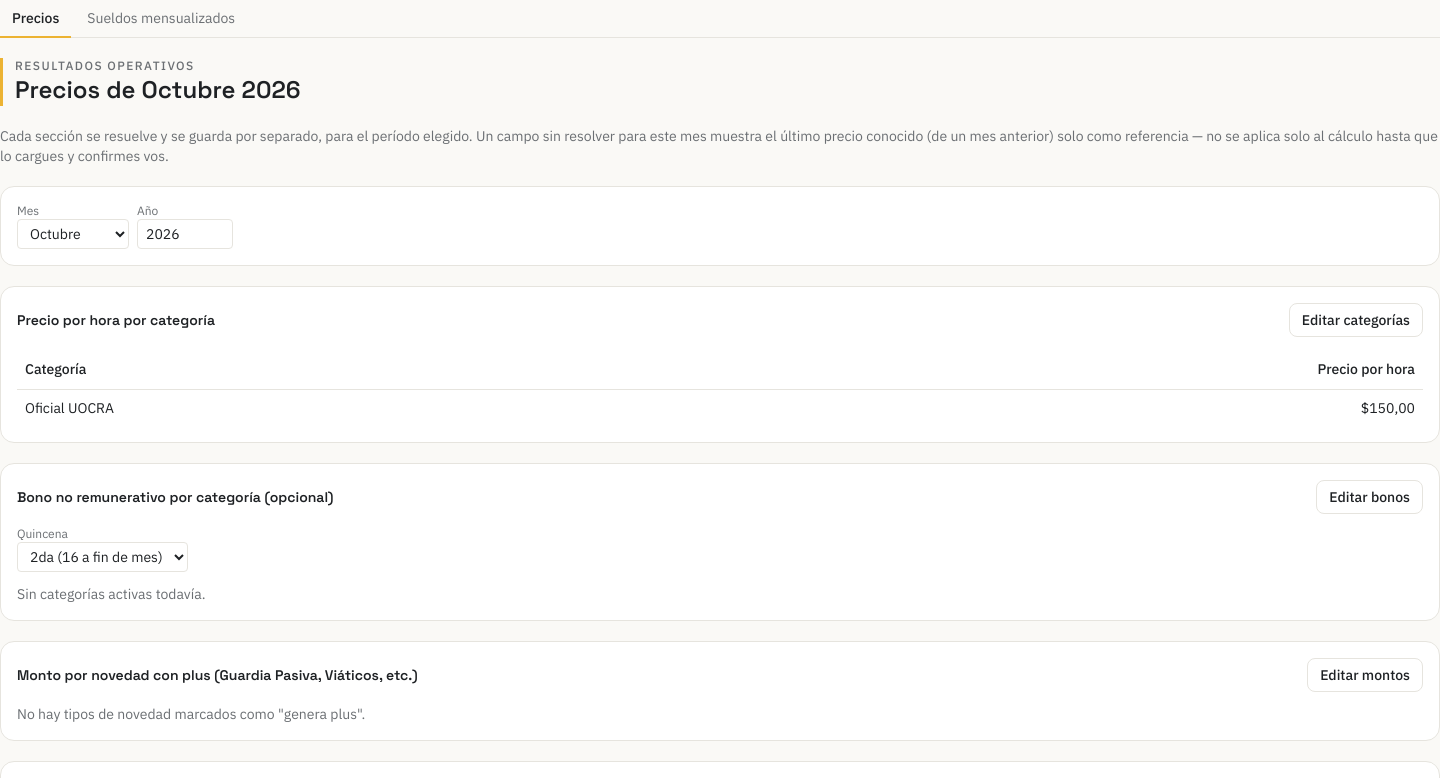
Test case: TarifasPage — Precios (ADR-018, secciones independientes) › cancelar edición vuelve a lectura descartando los cambios, sin guardar
Expected: the text "$150,00" is shown, [693,389,1423,426]
Click the button "Editar categorías". click: (1356, 320)
box: [1289,303,1423,337]
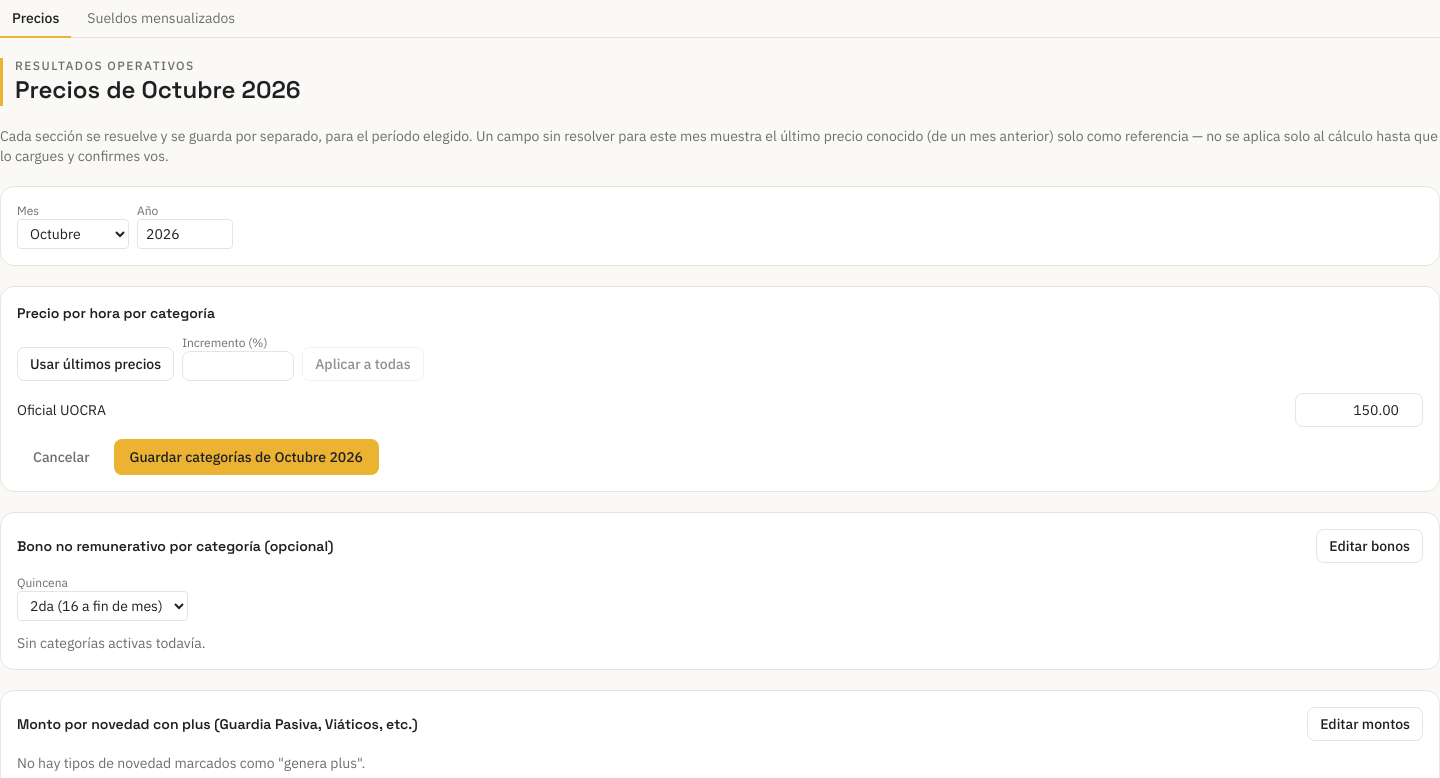
Replace the text in the number field labelled "Oficial UOCRA" with "999". click: (1359, 410)
box: [1295,393,1423,427]
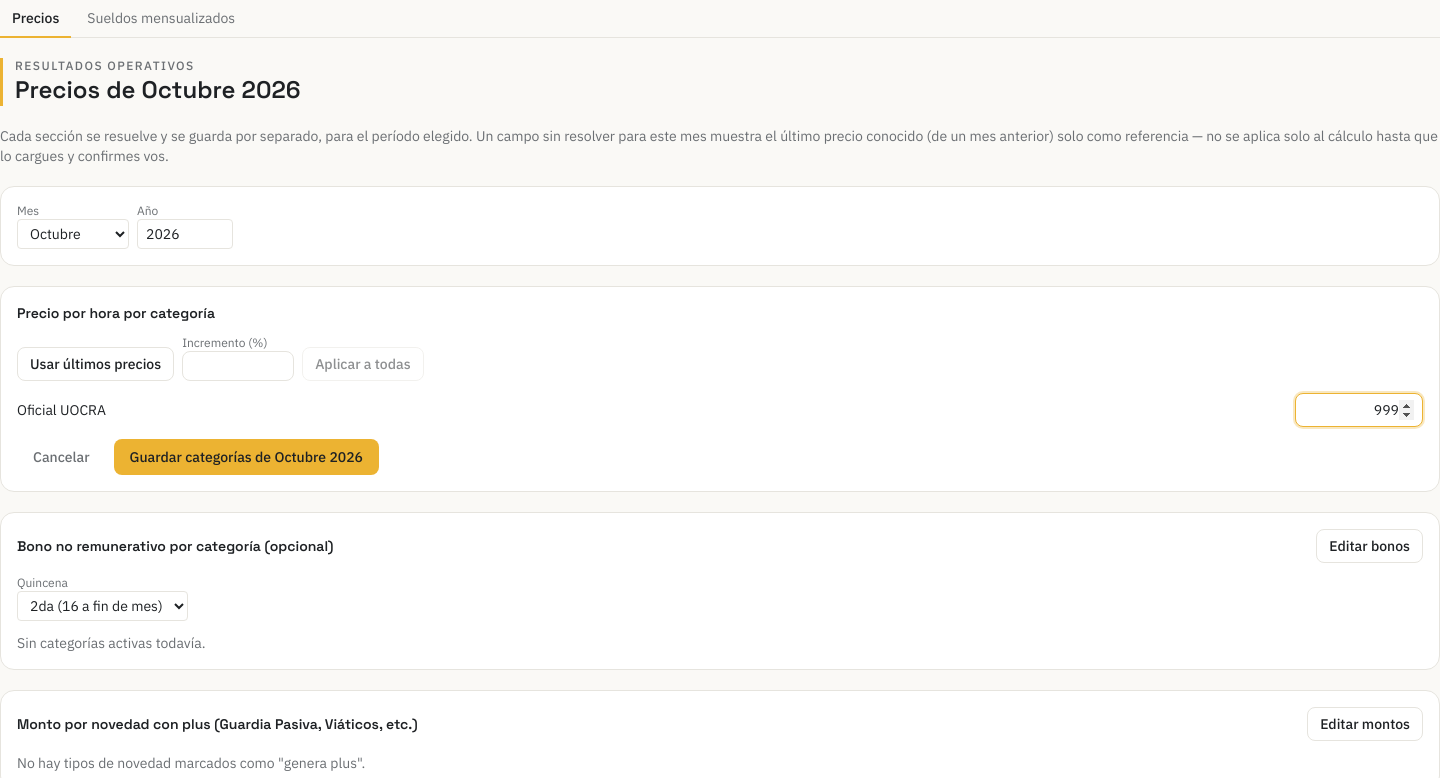
Click the button "Cancelar". click: (61, 457)
box: [17,439,106,475]
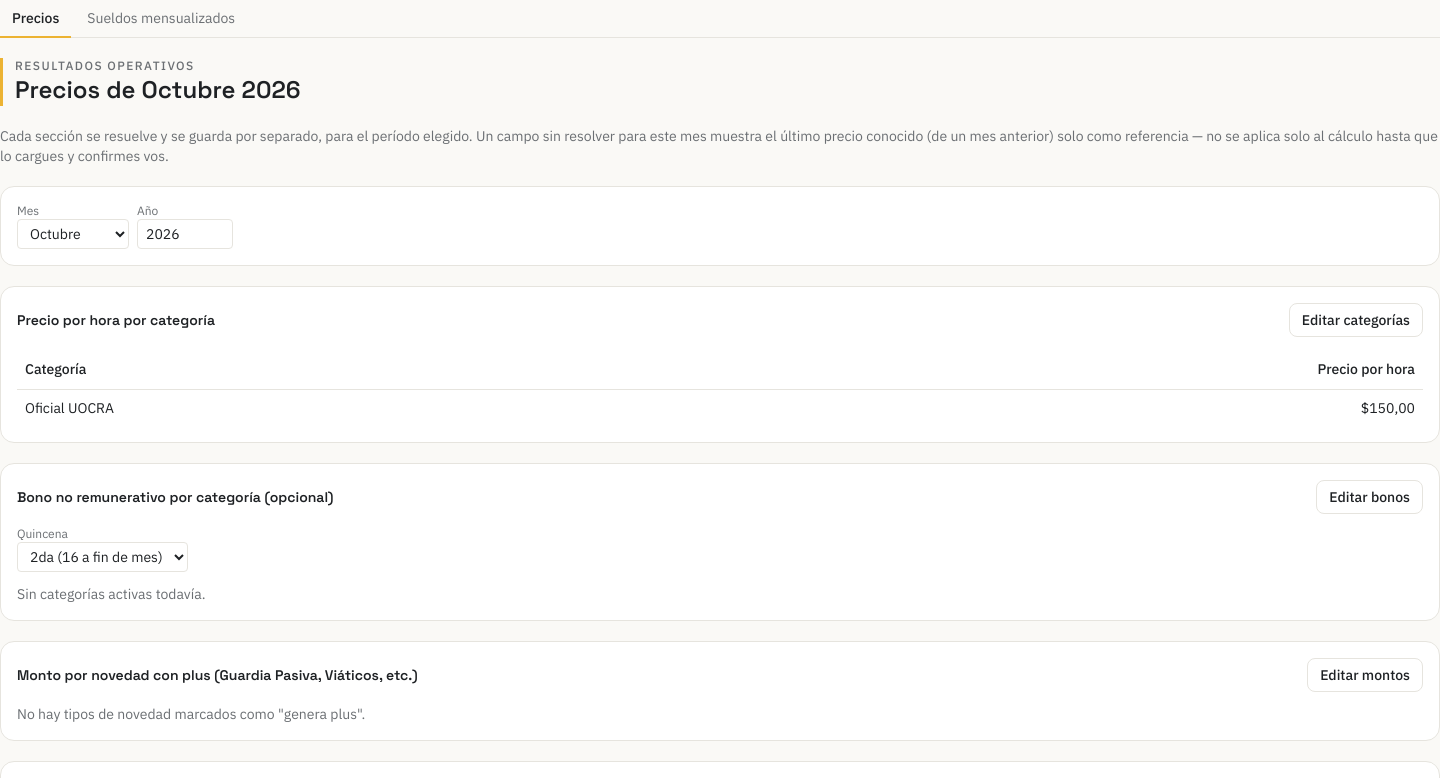
Expected: the text "$150,00" is shown, [693,389,1423,426]
